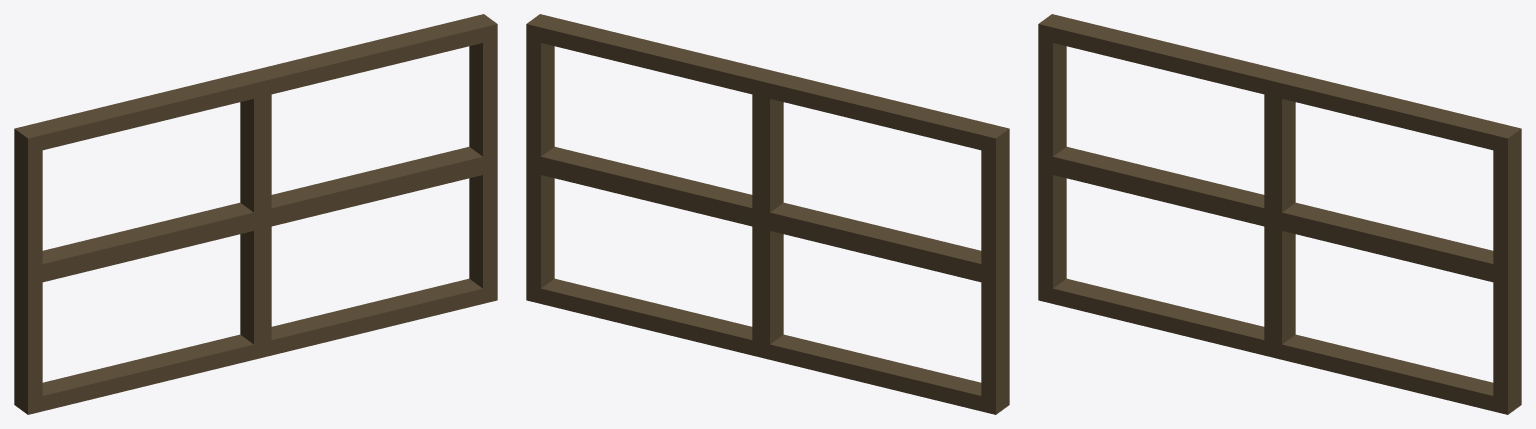
File: Window.fbx
The picture shows the model from 3 angles, left to right: view 1: azimuth 30°, elevation 25°; view 2: azimuth 150°, elevation 25°; view 3: azimuth 330°, elevation 25°; orthographic projection.
Parts seen in each view (by area): view 1: Cube; view 2: Cube; view 3: Cube.
Part boxes in pixels (x1,y1,x2,y2): Cube: (14, 14, 497, 414); Cube: (526, 14, 1009, 414); Cube: (1038, 14, 1521, 414).
Size of the model in its own units: 320 by 180 by 16.14.
